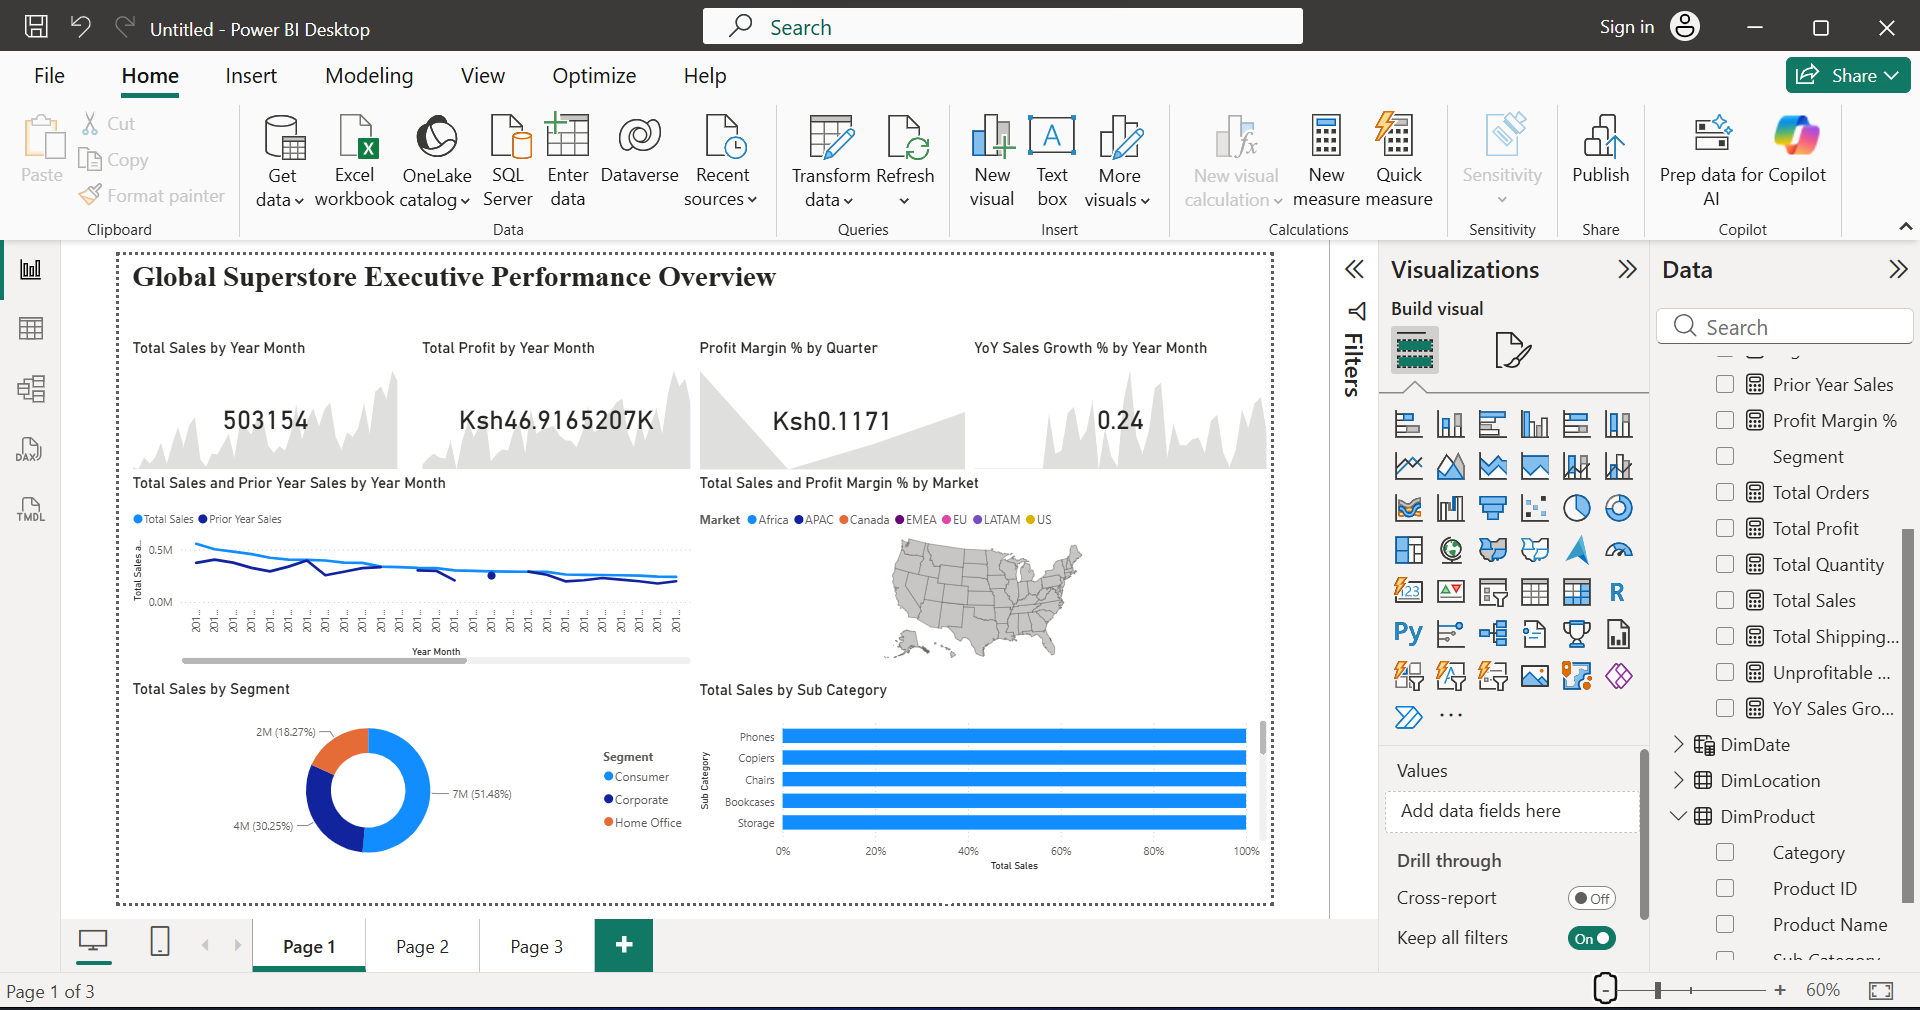

The page's visual inventory and layout, read from the dashboard file:
{"tool":"powerbi","page":{"name":"Page 1","canvas":[1280,720],"ordinal":0},"visuals":[{"type":"textbox","box":[9.4,0,1269.9,56.7],"z":0},{"type":"kpi","fields":{"Indicator":["DimCustomer.Total Sales"],"TrendLine":["DimDate.Year Month"]},"box":[9.6,93.8,304.5,149.4],"z":1},{"type":"kpi","fields":{"Indicator":["DimCustomer.Total Profit"],"TrendLine":["DimDate.Year Month"]},"box":[331.3,93.8,308.4,149.4],"z":2},{"type":"kpi","fields":{"Indicator":["DimCustomer.YoY Sales Growth %"],"TrendLine":["DimDate.Year Month"]},"box":[944.2,93.8,335.2,149.4],"z":3},{"type":"kpi","fields":{"Indicator":["DimCustomer.Profit Margin %"],"TrendLine":["DimDate.Quarter"]},"box":[639.7,93.8,305,150],"z":4},{"type":"lineChart","fields":{"Category":["DimDate.Year Month"],"Y":["DimCustomer.Total Sales","DimCustomer.Prior Year Sales"]},"box":[9.6,243.2,630.1,216.4],"z":5},{"type":"donutChart","fields":{"Category":["DimCustomer.Segment"],"Y":["DimCustomer.Total Sales"]},"box":[10,471.5,630,216],"z":6},{"type":"shapeMap","fields":{"Series":["DimLocation.Market"],"Value":["DimCustomer.Total Sales"]},"box":[639.7,243.2,639.7,216.4],"z":7},{"type":"hundredPercentStackedBarChart","fields":{"Category":["DimProduct.Sub Category"],"Y":["DimCustomer.Total Sales"]},"box":[640,472.5,640,216],"z":8}]}

Visuals, with their boxes on the page's 1280x720 design canvas (x1, y1, x2, y2). These are canvas units, not pixel positions in the 1920x1010 screenshot, which may show the page scaled, cropped or inside an application window:
textbox: <box>9,0,1279,57</box>
kpi - DimCustomer.Total Sales x DimDate.Year Month: <box>10,94,314,243</box>
kpi - DimCustomer.Total Profit x DimDate.Year Month: <box>331,94,640,243</box>
kpi - DimCustomer.YoY Sales Growth % x DimDate.Year Month: <box>944,94,1279,243</box>
kpi - DimCustomer.Profit Margin % x DimDate.Quarter: <box>640,94,945,244</box>
lineChart - DimDate.Year Month x DimCustomer.Total Sales: <box>10,243,640,460</box>
donutChart - DimCustomer.Segment x DimCustomer.Total Sales: <box>10,472,640,688</box>
shapeMap - DimLocation.Market x DimCustomer.Total Sales: <box>640,243,1279,460</box>
hundredPercentStackedBarChart - DimProduct.Sub Category x DimCustomer.Total Sales: <box>640,472,1280,688</box>
